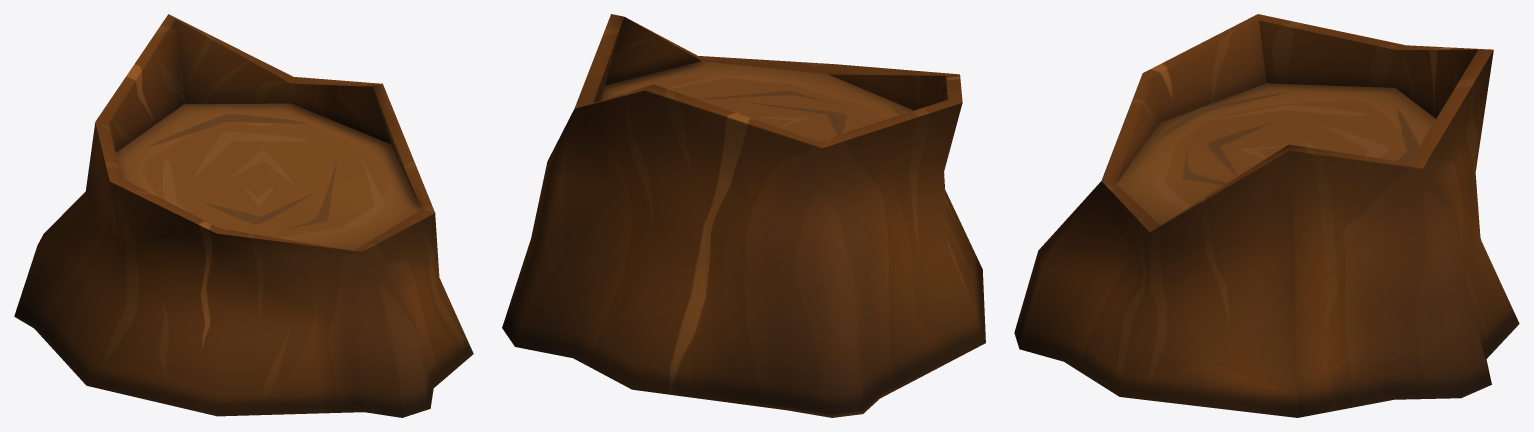
The model's file is stump.FBX.
The picture shows the model from 3 angles, left to right: view 1: azimuth 30°, elevation 25°; view 2: azimuth 150°, elevation 25°; view 3: azimuth 270°, elevation 25°; orthographic projection. The views are drawn at different scales.
Parts seen in each view (by area): view 1: treestump01; view 2: treestump01; view 3: treestump01.
Boxes of the visible parts, x1,y1,x2,y2 form: treestump01: [14, 14, 473, 417]; treestump01: [502, 14, 985, 417]; treestump01: [1014, 14, 1519, 417].
Size of the model in its own units: 8.95 by 9.81 by 5.88.
